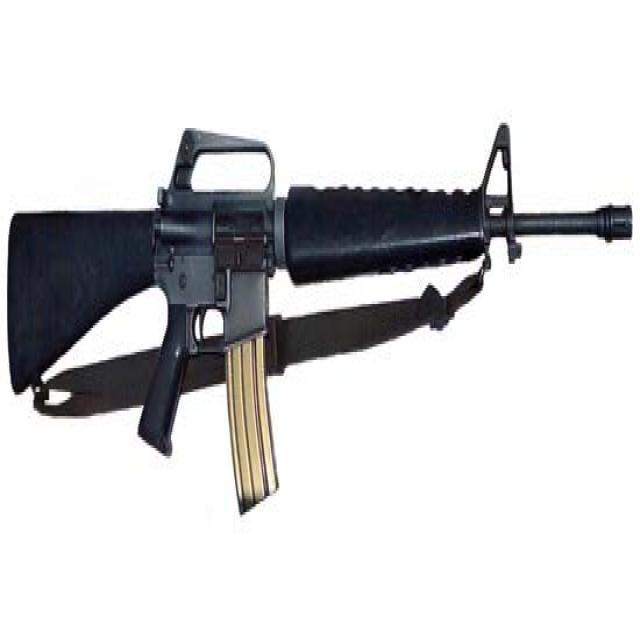Weapon: (8, 115, 634, 520)
